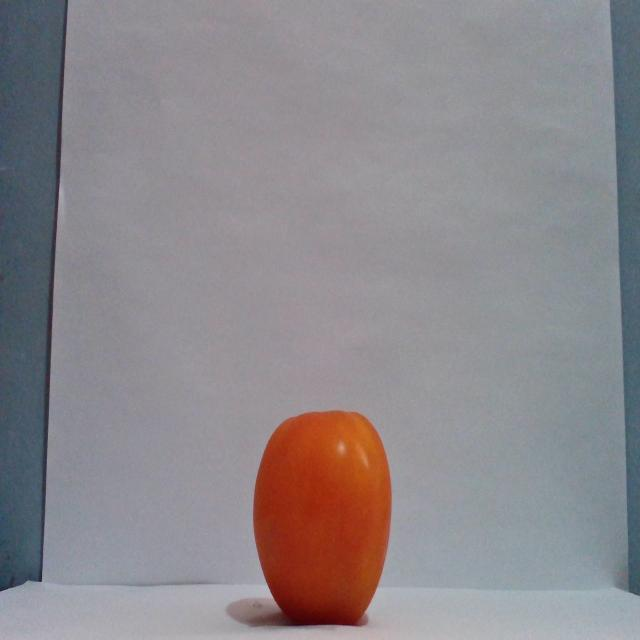Red: (251, 408, 393, 625)
